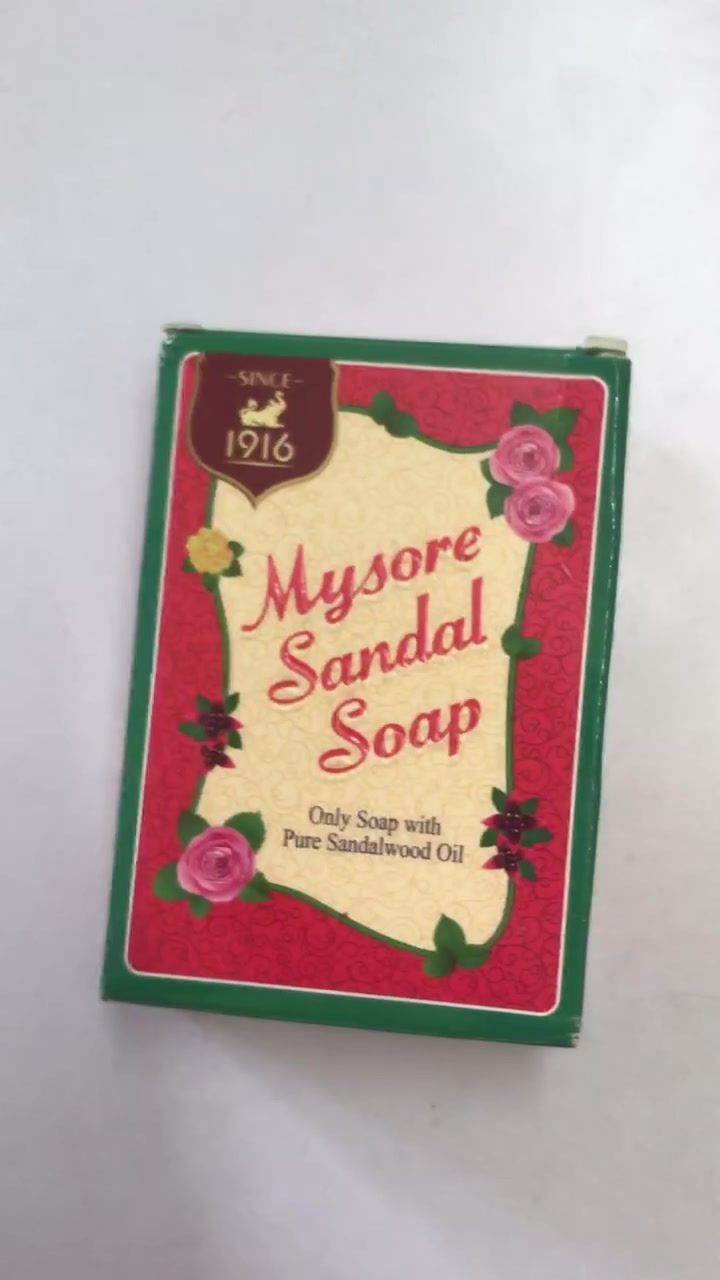mysore sandal soap: (99, 325, 633, 1045)
